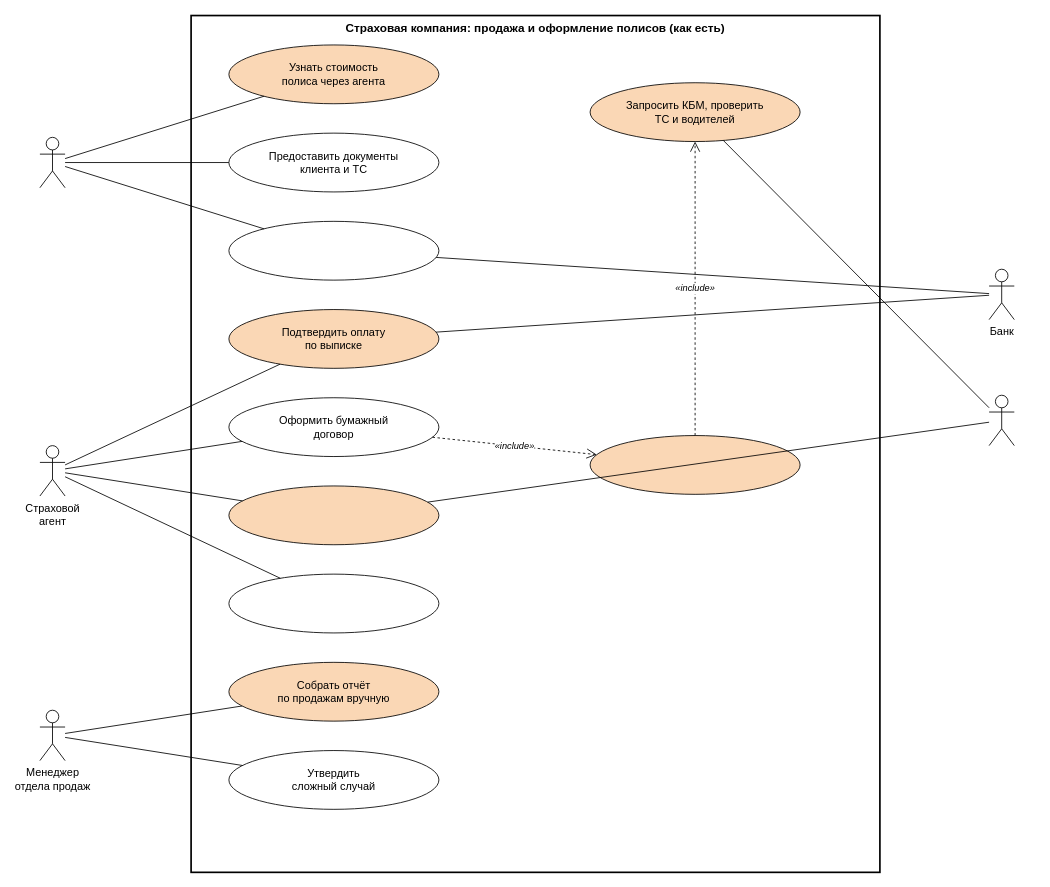
Some shapes in this 1050 by 887 pixel diagram are drawn without their labels. Here are the shapes that lost their labels. From the top down, the box of each, then its label:
(39, 136, 65, 188): Клиент
(228, 220, 439, 280): Оплатить полис (касса, перевод)
(988, 394, 1014, 446): АИС ОСАГО (веб-кабинет)
(589, 435, 800, 494): Рассчитать премию вручную (Excel)
(228, 485, 439, 545): Внести договор в АИС ОСАГО вручную
(228, 573, 439, 633): Выдать бумажный полис
